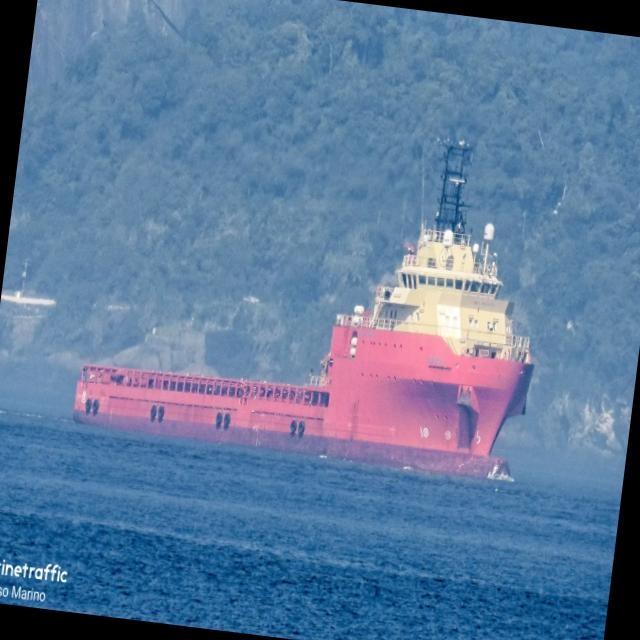Offshore: (73, 141, 533, 480)
